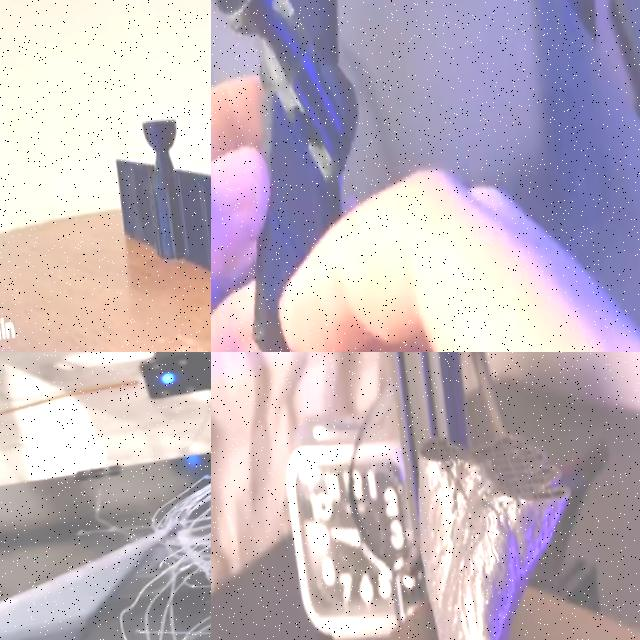spaghetti: (127, 400, 211, 640)
